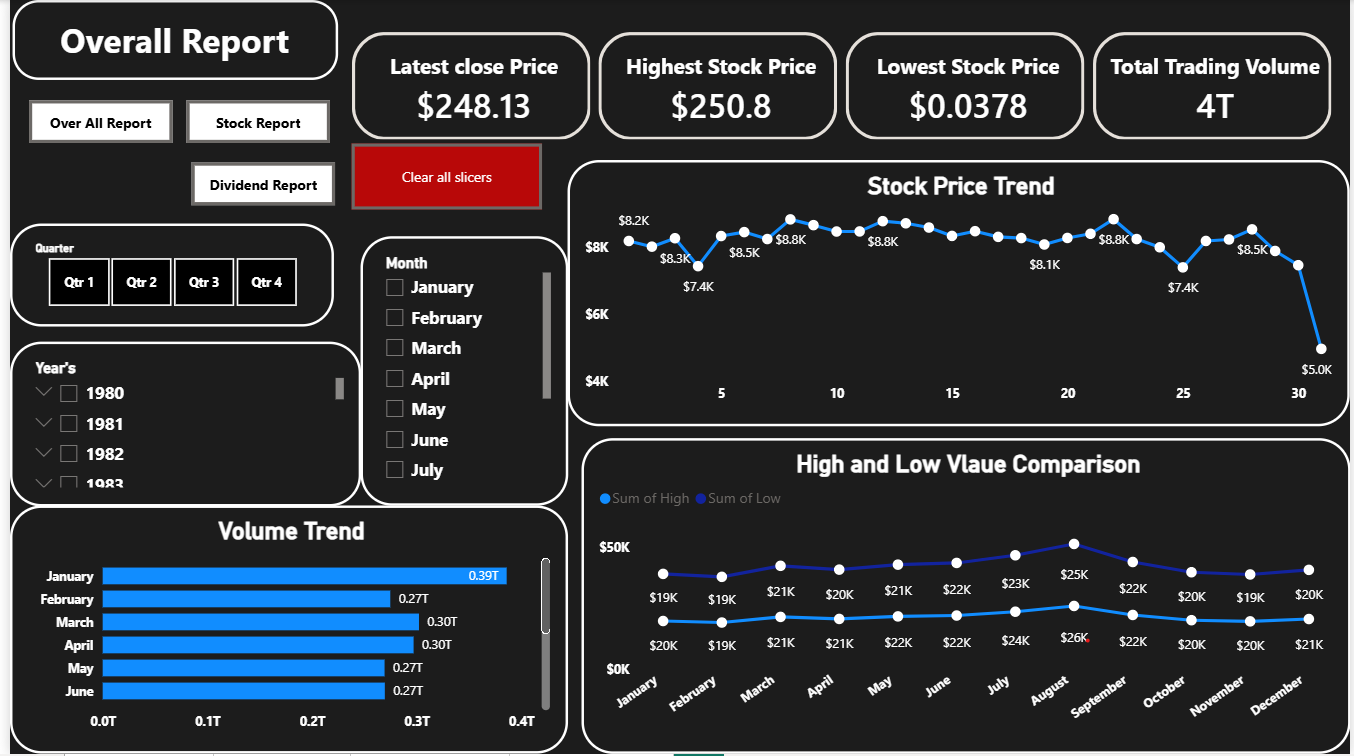

This screenshot's page, from the dashboard's own definition file:
{"tool":"powerbi","page":{"name":"Overall report","canvas":[1280,720],"ordinal":0},"visuals":[{"type":"cardVisual","fields":{"Data":["AAPL_historical.Latest close Price","AAPL_historical.Highest Stock Price","AAPL_historical.Lowest Stock Price","AppleStockPrice.Total Trading Volume"]},"box":[309.8,13.7,970.6,137.3],"z":0},{"type":"lineChart","title":"Stock Price Trend","fields":{"Y":["Sum(AppleStockPrice.Close)"],"Category":["AppleStockPrice.Date.Variation.Date Hierarchy.Day"]},"box":[532.8,152.5,747.5,254.1],"z":1000},{"type":"barChart","title":" Volume Trend","fields":{"Y":["Sum(AppleStockPrice.Volume)"],"Category":["AppleStockPrice.Date.Variation.Date Hierarchy.Month","AppleStockPrice.Date.Variation.Date Hierarchy.Day"]},"box":[0,483.3,533.3,237],"z":2000},{"type":"stackedAreaChart","title":" High and  Low  Vlaue Comparison ","fields":{"Category":["AppleStockPrice.Date.Variation.Date Hierarchy.Month"],"Y":["Sum(AppleStockPrice.High)","Sum(AppleStockPrice.Low)"]},"box":[545.8,418.1,734.7,301.4],"z":3000},{"type":"slicer","fields":{"Values":["AppleStockPrice.Date.Variation.Date Hierarchy.Year","AppleStockPrice.Date.Variation.Date Hierarchy.Quarter","AppleStockPrice.Date.Variation.Date Hierarchy.Month","AppleStockPrice.Date.Variation.Date Hierarchy.Day"]},"box":[0,325.9,335.2,157.4],"z":4000},{"type":"slicer","fields":{"Values":["AppleStockPrice.Date.Variation.Date Hierarchy.Month"]},"box":[335.2,225.9,198.1,257.4],"z":5000},{"type":"slicer","fields":{"Values":["AppleStockPrice.Date.Variation.Date Hierarchy.Quarter"]},"box":[0,213,309.3,98.1],"z":6000},{"type":"textbox","box":[2.8,0,311.1,76.4],"z":7000},{"type":"actionButton","box":[335.2,137,181.5,75.9],"z":8000},{"type":"actionButton","box":[18.5,96.3,137,40.7],"z":9000},{"type":"actionButton","box":[168.5,96.3,137,40.7],"z":10000},{"type":"actionButton","box":[174.1,155.6,137,40.7],"z":11000}]}

Visuals, with their boxes in screenshot pixels (x1, y1, x2, y2), scaled from the page's 1280x720 canvas onto the 1354x756 screenshot:
cardVisual - AAPL_historical.Latest close Price x AAPL_historical.Highest Stock Price: [328,14,1353,159]
"Stock Price Trend" lineChart: [564,160,1353,427]
" Volume Trend" barChart: [0,507,564,755]
" High and  Low  Vlaue Comparison " stackedAreaChart: [577,439,1353,755]
slicer - AppleStockPrice.Date.Variation.Date Hierarchy.Year x AppleStockPrice.Date.Variation.Date Hierarchy.Quarter: [0,342,355,507]
slicer - AppleStockPrice.Date.Variation.Date Hierarchy.Month: [355,237,564,507]
slicer - AppleStockPrice.Date.Variation.Date Hierarchy.Quarter: [0,224,327,327]
textbox: [3,0,332,80]
actionButton: [355,144,547,224]
actionButton: [20,101,164,144]
actionButton: [178,101,323,144]
actionButton: [184,163,329,206]
